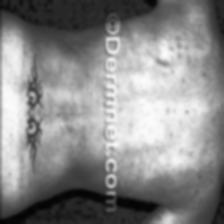Non-Cancerous Skin Condition: (133, 72, 209, 172), (58, 138, 92, 186), (166, 36, 193, 62), (18, 30, 36, 54)
